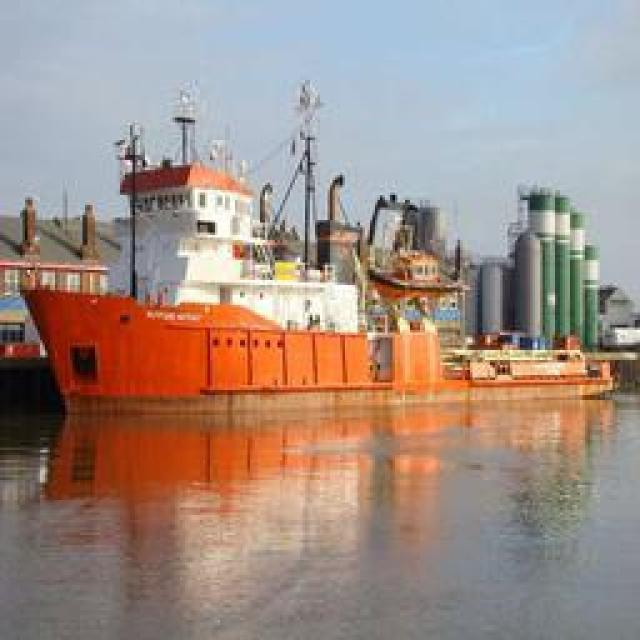CIV_Ship: (30, 74, 438, 396)
